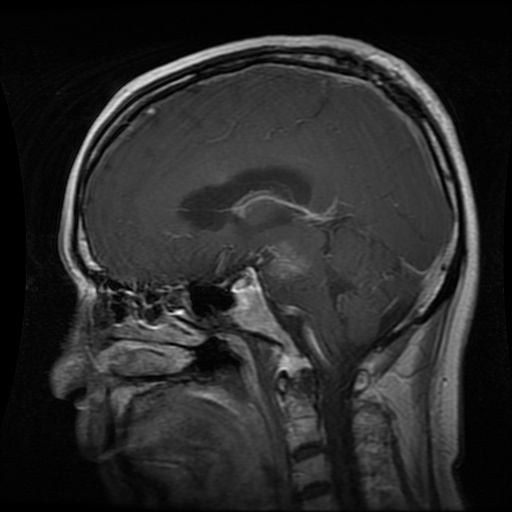glioma: (268, 241, 313, 282)
